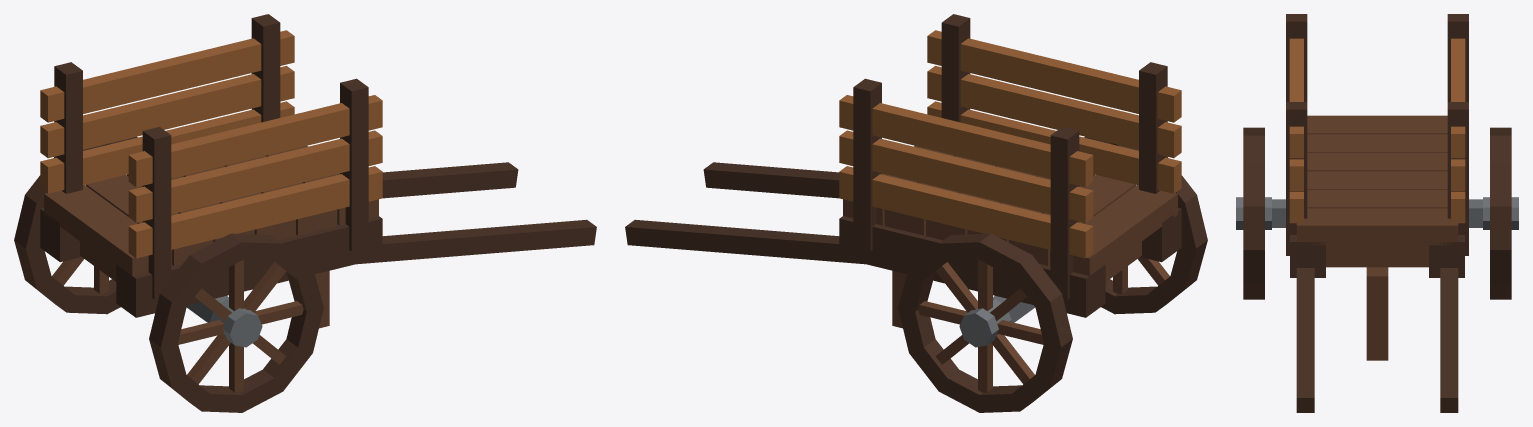
File: Cart__Hand.fbx
3 renders of one model, left to right at view 1: azimuth 30°, elevation 25°; view 2: azimuth 150°, elevation 25°; view 3: azimuth 270°, elevation 25°, orthographic. The views are drawn at different scales.
Parts seen in each view (by area): view 1: Cart__Hand; view 2: Cart__Hand; view 3: Cart__Hand.
Part boxes in pixels (x1,y1,x2,y2): Cart__Hand: (14,14,596,412); Cart__Hand: (625,14,1207,412); Cart__Hand: (1236,14,1518,412).
Bounding box in the file's own units: 274 × 153 × 158.
Materials: 1 (1 with a texture image).
